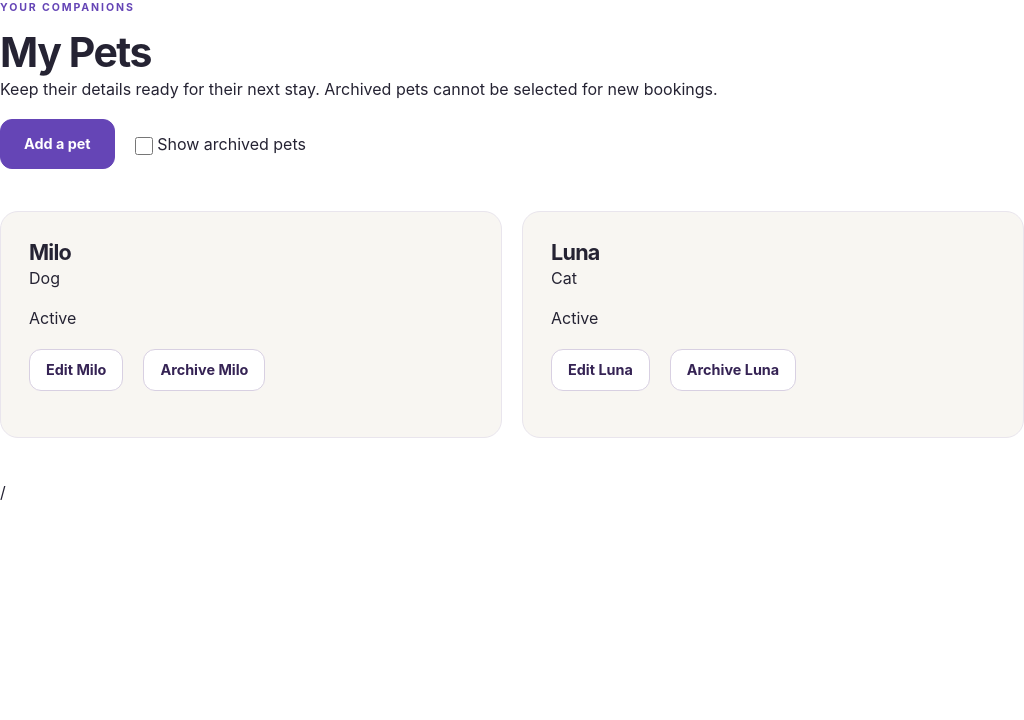
Test: shows backend validation errors and allows editing
Click the button "Edit Milo".
click(76, 370)  # box [29,349,123,391]
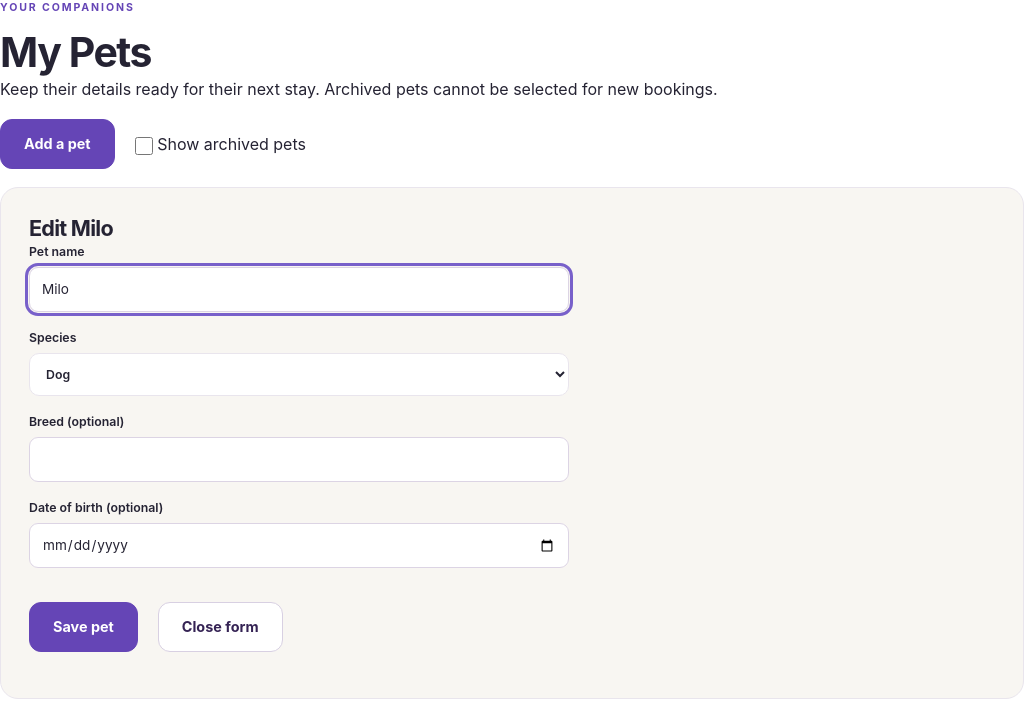
Type "Terrier" into the field labelled "Breed (optional)".
click(299, 459); type("Terrier")  # box [29,437,569,482]
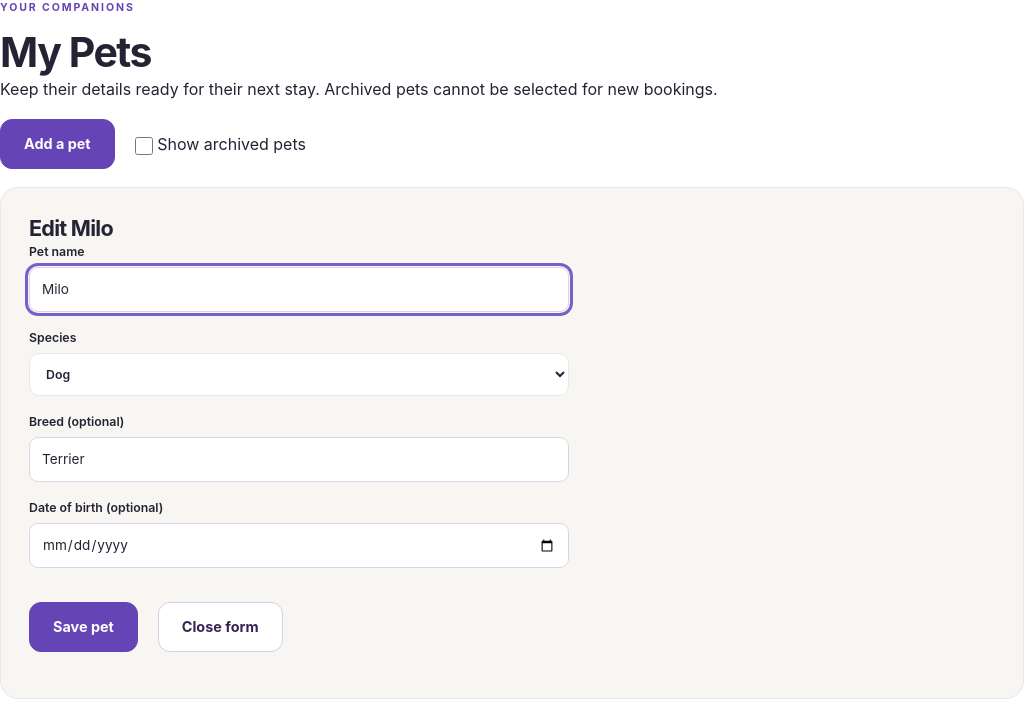
Click the button "Save pet".
click(83, 627)  # box [29,602,138,652]
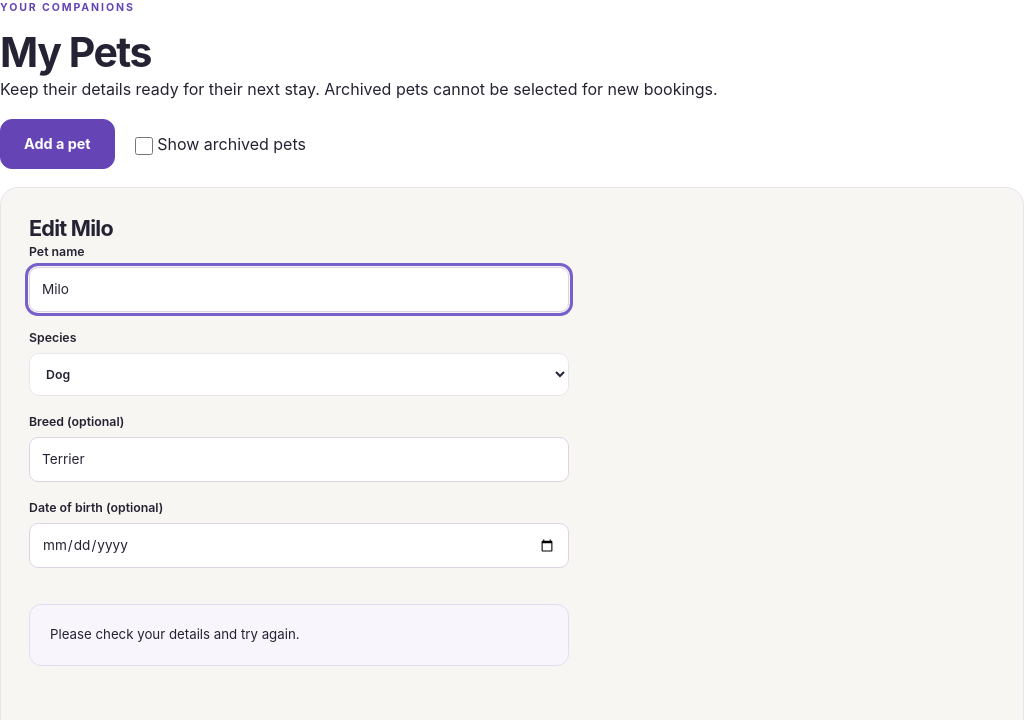
Result: the message shows "check your details" at [50,626,300,642]
